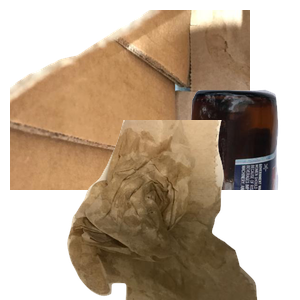cardboard: (10, 10, 250, 190)
glass: (87, 87, 300, 267)
plastic: (84, 191, 242, 300)
trash: (65, 120, 300, 300)
